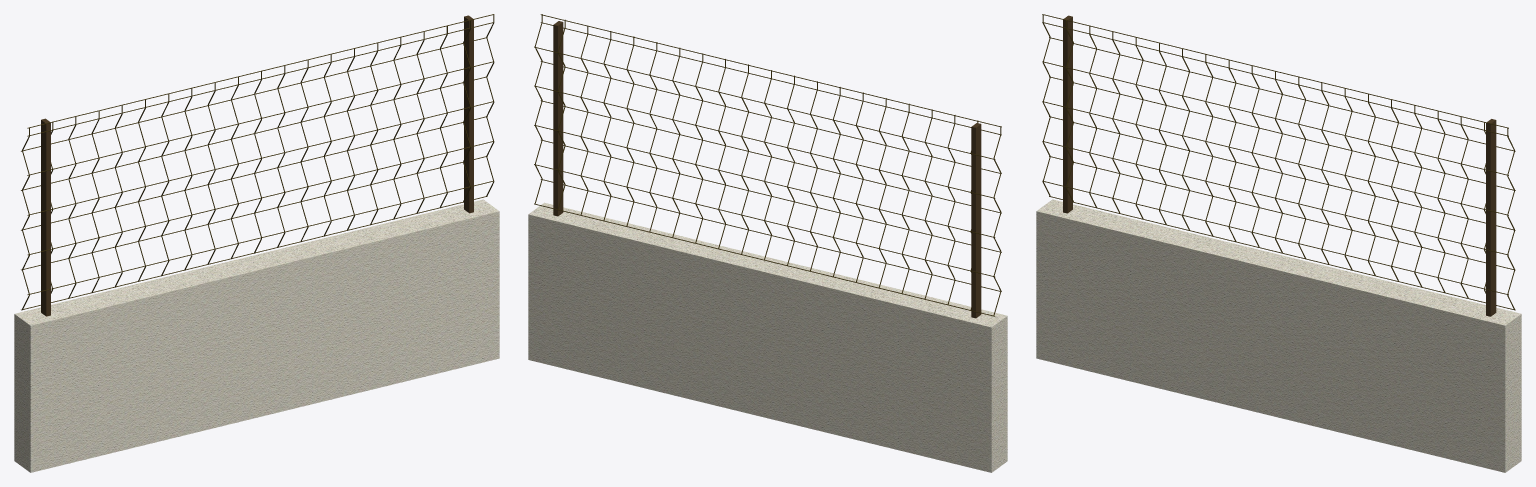
Rendered from H800-CB_woodasianbrown.fbx.
The picture shows the model from 3 angles, left to right: view 1: azimuth 30°, elevation 25°; view 2: azimuth 150°, elevation 25°; view 3: azimuth 330°, elevation 25°; orthographic projection.
Visible parts, largest first — view 1: H800-CB_brown; view 2: H800-CB_brown; view 3: H800-CB_brown.
Boxes of the visible parts, box(x1,y1,x2,y2) form: H800-CB_brown: box(14, 14, 499, 472); H800-CB_brown: box(528, 14, 1007, 472); H800-CB_brown: box(1036, 14, 1521, 472).
Size of the model in its own units: 200 by 139 by 12.
Materials: 3 (3 with a texture image).
